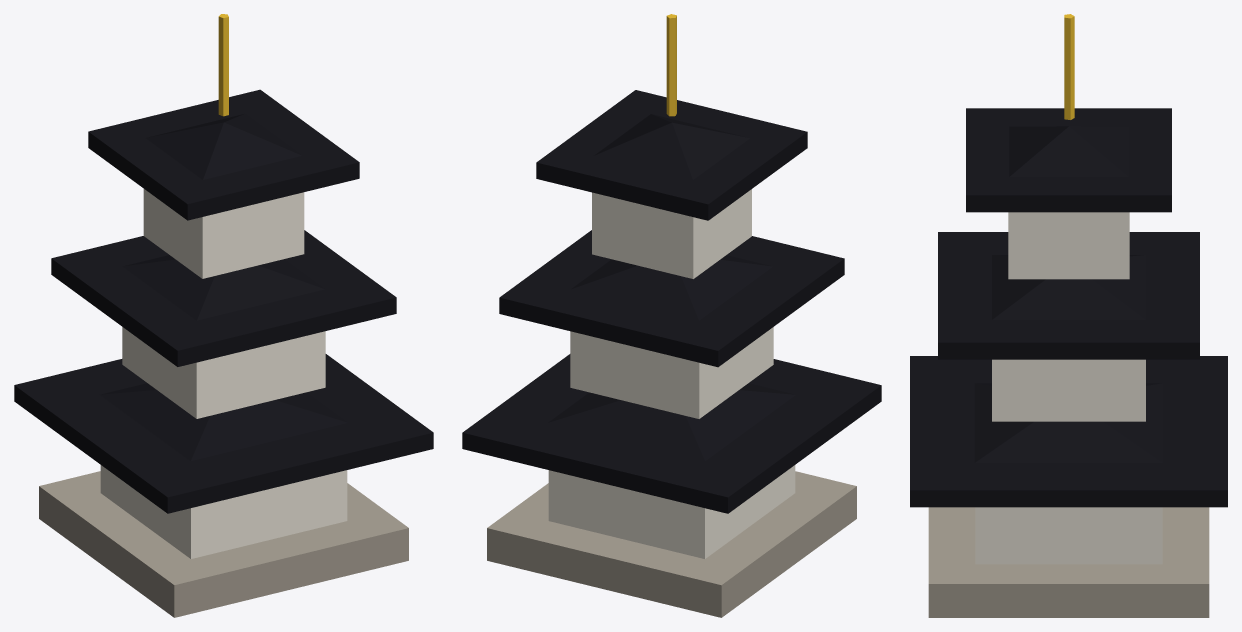
The model's file is pagoda.glb.
3 views of the same model, side by side, from view 1: azimuth 30°, elevation 25°; view 2: azimuth 150°, elevation 25°; view 3: azimuth 270°, elevation 25° (orthographic). The views are drawn at different scales.
Parts seen in each view (by area): view 1: pagoda; view 2: pagoda; view 3: pagoda.
Boxes of the visible parts, left/top/right/bottom form: pagoda: left=14, top=14, right=433, bottom=617; pagoda: left=462, top=14, right=881, bottom=617; pagoda: left=910, top=14, right=1227, bottom=617.
Size of the model in its own units: 3.4 by 6.4 by 3.4.
